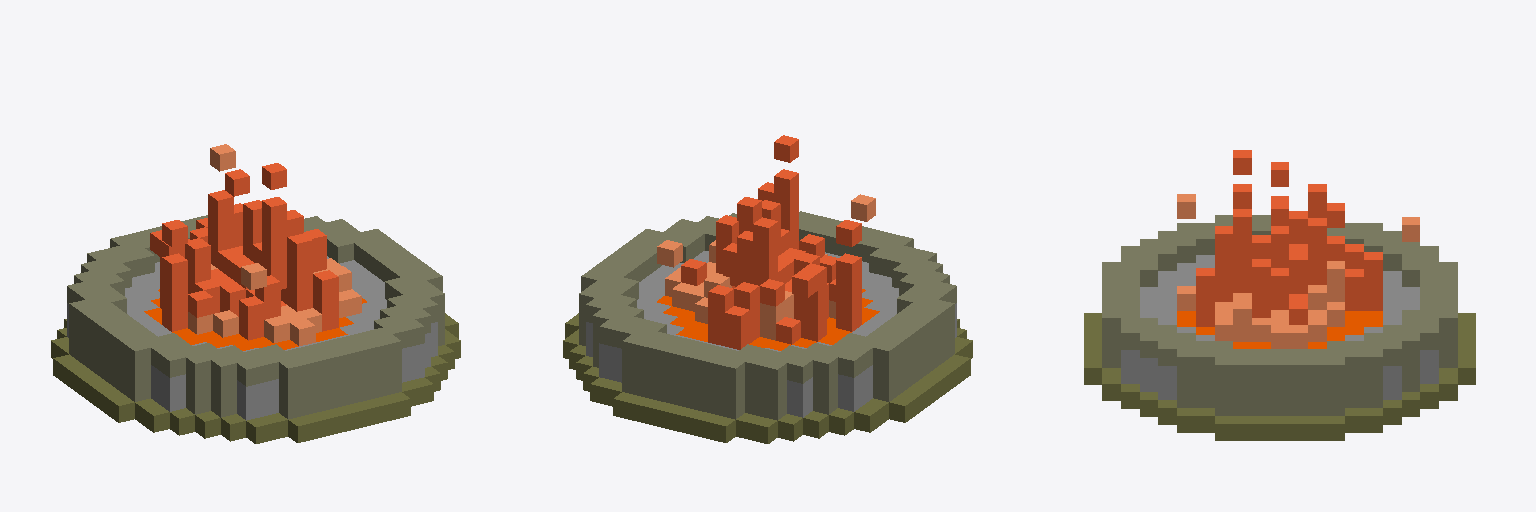
3 views of the same model, side by side, from view 1: azimuth 30°, elevation 25°; view 2: azimuth 150°, elevation 25°; view 3: azimuth 270°, elevation 25° (orthographic).
Visible parts, largest first — view 1: object 1; view 2: object 1; view 3: object 1.
Part boxes in pixels (left/top/right/bottom): object 1: left=51, top=144, right=460, bottom=443; object 1: left=563, top=135, right=972, bottom=443; object 1: left=1084, top=150, right=1475, bottom=440.
Size of the model in its own units: 2.1 by 1.2 by 2.1.
Materials: 1 (1 with a texture image).